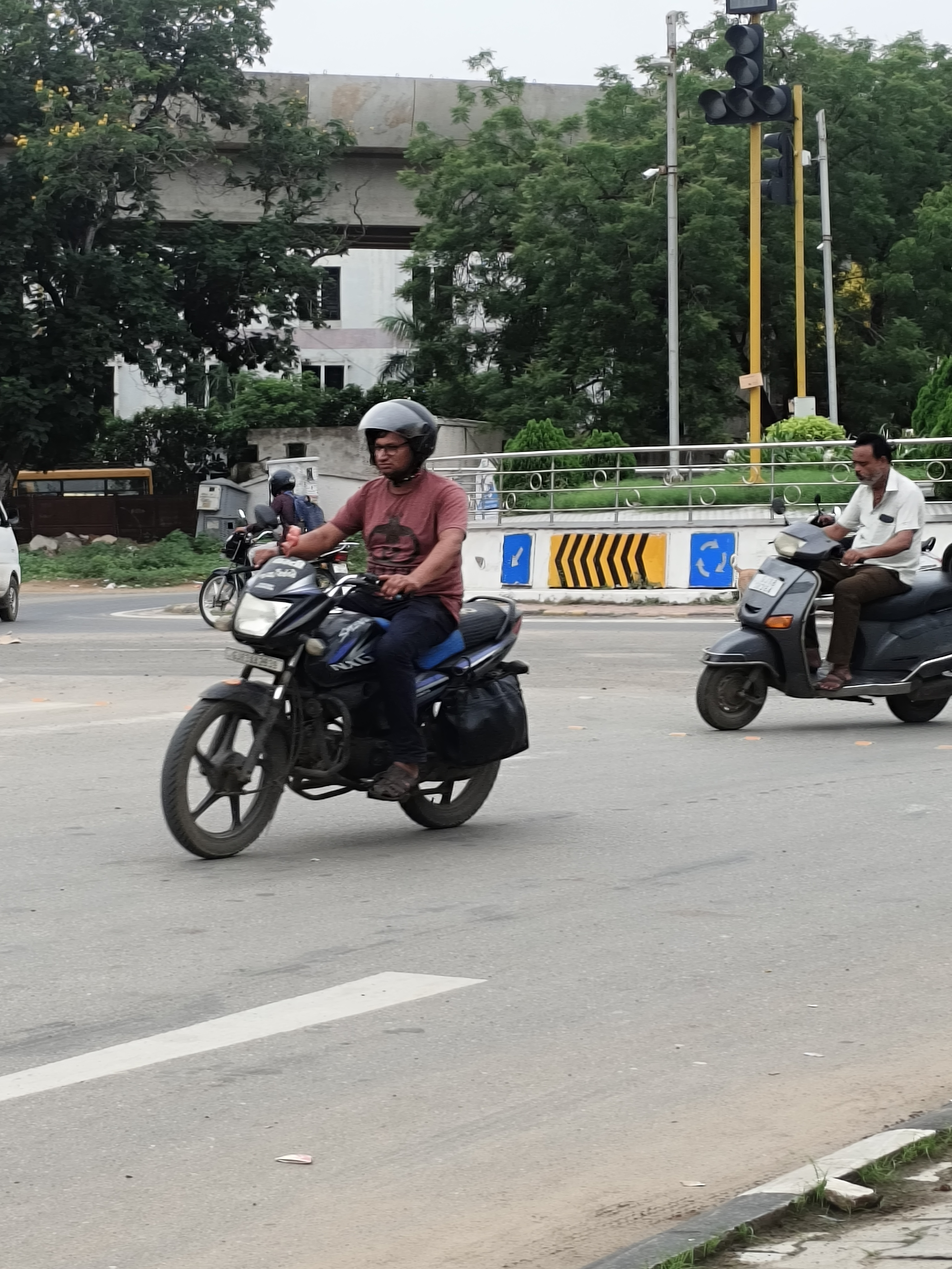BikeWithRider: (153, 386, 544, 864), (687, 429, 952, 742), (191, 463, 357, 634)
Helmet: (347, 386, 454, 485), (261, 463, 302, 505)
NoHelmet: (839, 430, 904, 491)
